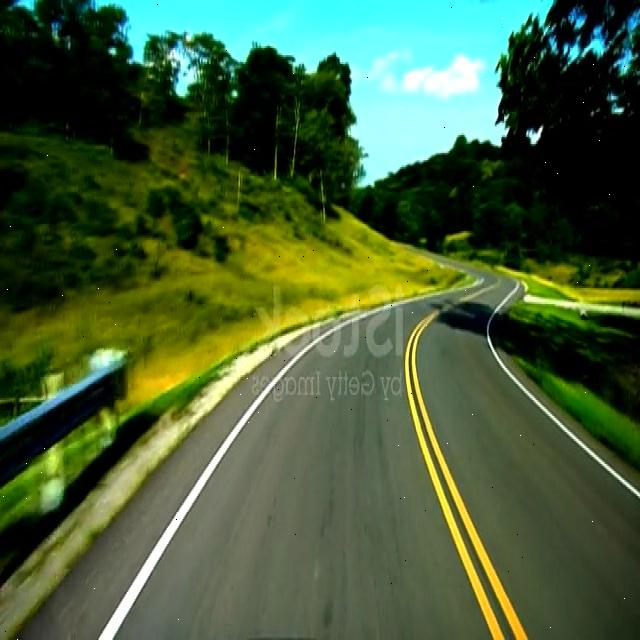lane: (100, 329, 335, 637), (406, 308, 528, 638), (500, 360, 639, 498)
road: (20, 271, 633, 632)
